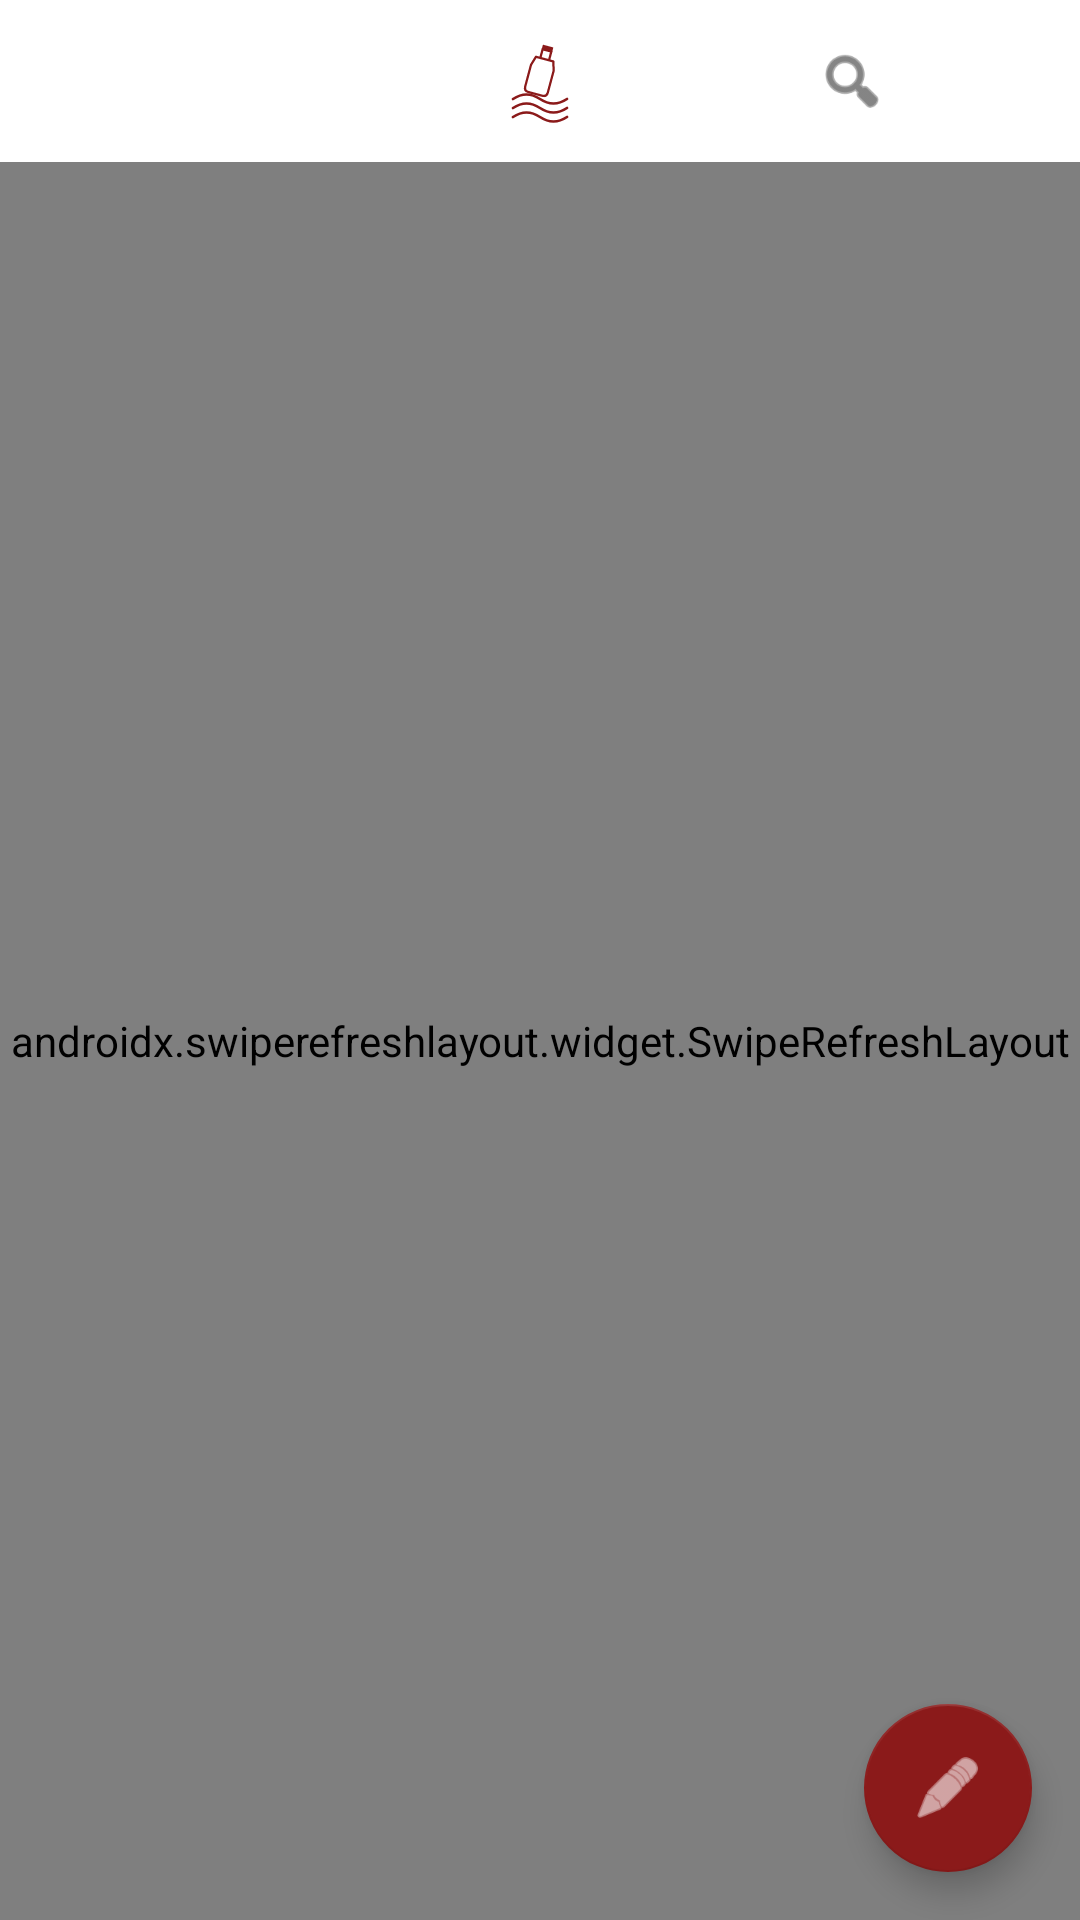

Point at icon controls on the screen. Image size 1080×1920, points as (x=x, y=y).
edit: (x=948, y=1788)
search: (x=852, y=81)
